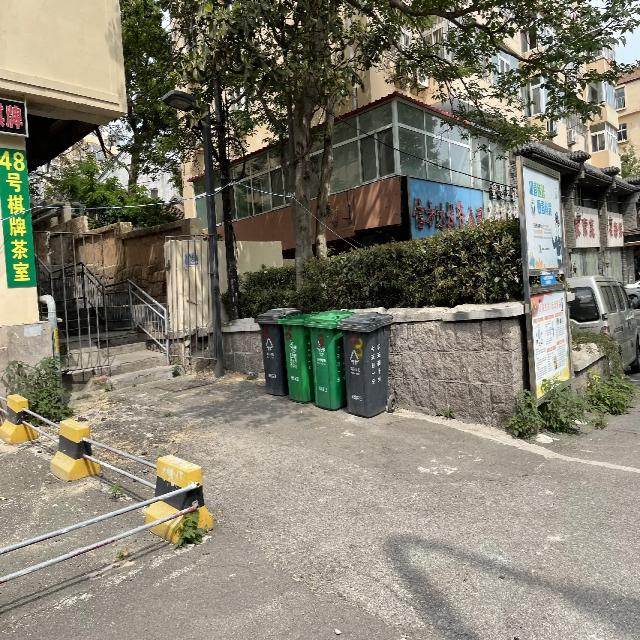garbage_bin: (335, 310, 392, 417), (303, 308, 354, 409), (254, 307, 300, 396), (278, 313, 314, 401)
